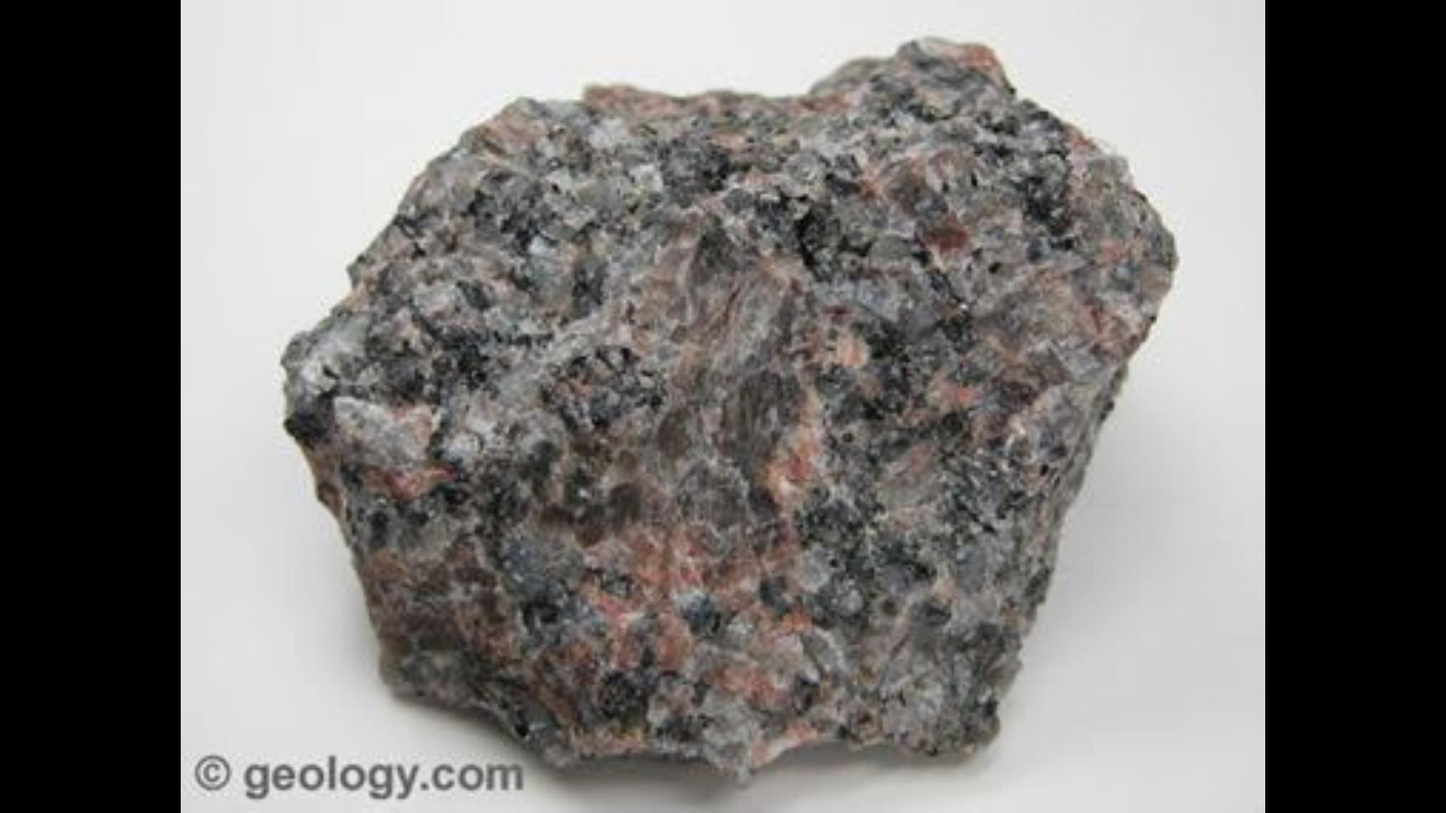rock: (286, 40, 1174, 773)
